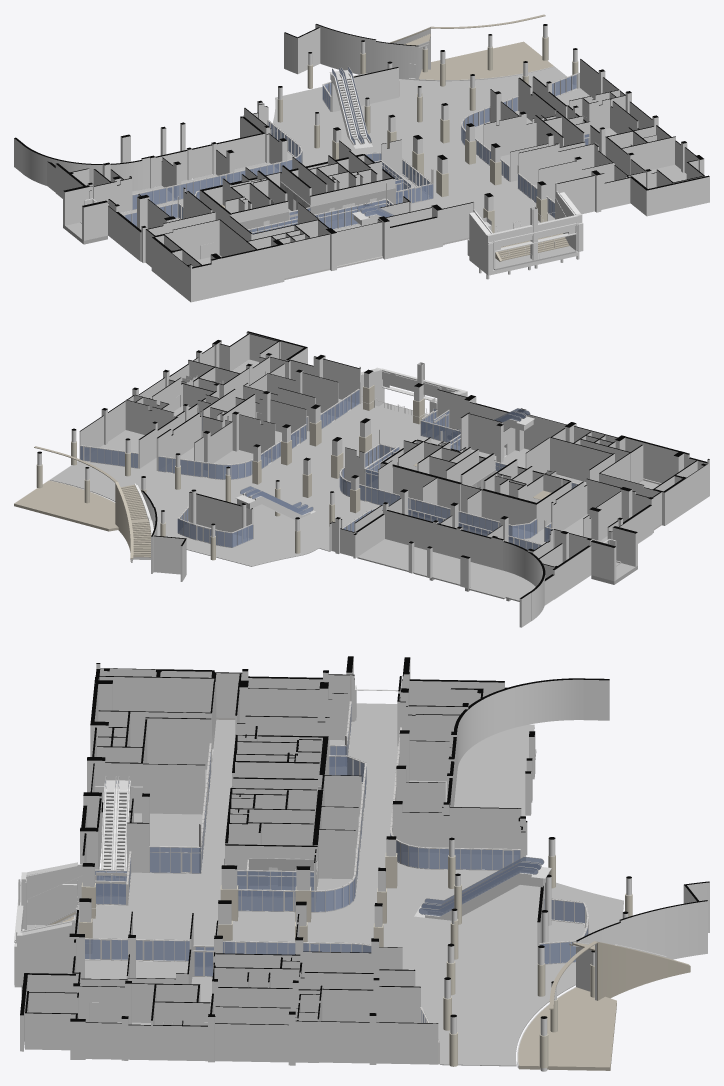
The picture shows the model from 3 angles, top to bottom: view 1: azimuth 30°, elevation 25°; view 2: azimuth 150°, elevation 25°; view 3: azimuth 270°, elevation 25°; orthographic projection. The views are drawn at different scales.
Visible parts, largest first — view 1: 3G$Eex1LvF98anALCPJMAt, B1F_Pillar01, 0vsUNaqET6rhNfNHaxfpYD, 161eeh36z9q96tzdyxwf08, Wall_004, 2O54dMO710SuGAiwHX6j7Z, 2y96tihXL7qBV9uVm_sAIG, 0WF9HnXAL4vQRyo_pqgnpu, 161eeh36z9q96tzdyxwfBS, 161eeh36z9q96tzdyxwf92, 161eeh36z9q96tzdyxwf_Y, 161eeh36z9q96tzdyxwfe2 (+42 smaller); view 2: 3G$Eex1LvF98anALCPJMAt, B1F_Pillar01, 0vsUNaqET6rhNfNHaxfpYD, 161eeh36z9q96tzdyxwgfZ, Wall_004, 0WF9HnXAL4vQRyo_pqgnpu, 161eeh36z9q96tzdyxwf92, 161eeh36z9q96tzdyxwfEn, 161eeh36z9q96tzdyxwfE7, Stairs_002, 161eeh36z9q96tzdyxwfFP, 161eeh36z9q96tzdyxwf7s (+49 smaller); view 3: 3G$Eex1LvF98anALCPJMAt, B1F_Pillar01, 3G$Eex1LvF98anALCPJHf0, 0vsUNaqET6rhNfNHaxfpYD, Wall_004, 161eeh36z9q96tzdyxwf08, 161eeh36z9q96tzdyxwf9C, 3HEPHru$TB3hlyezFZmzLZ, Wall_001, 2HrijRPdL2vvnPyaTUN7jl, 1LhUMR5ZbDX8ErqSCuh0lg, 20IRNjci97sQD81LGyliY9 (+69 smaller).
Part boxes in pixels (x1=…): 3G$Eex1LvF98anALCPJMAt: x1=80, y1=66, x2=575, y2=232; B1F_Pillar01: x1=70, y1=24, x2=687, y2=296; 0vsUNaqET6rhNfNHaxfpYD: x1=419, y1=41, x2=553, y2=79; 161eeh36z9q96tzdyxwf08: x1=315, y1=24, x2=376, y2=74; Wall_004: x1=22, y1=144, x2=142, y2=191; 2O54dMO710SuGAiwHX6j7Z: x1=284, y1=234, x2=329, y2=278; 2y96tihXL7qBV9uVm_sAIG: x1=336, y1=222, x2=382, y2=265; 0WF9HnXAL4vQRyo_pqgnpu: x1=331, y1=67, x2=398, y2=112; 161eeh36z9q96tzdyxwfBS: x1=242, y1=245, x2=278, y2=290; 161eeh36z9q96tzdyxwf92: x1=151, y1=237, x2=189, y2=300; 161eeh36z9q96tzdyxwf_Y: x1=664, y1=175, x2=709, y2=212; 161eeh36z9q96tzdyxwfe2: x1=375, y1=41, x2=418, y2=80; 3G$Eex1LvF98anALCPJMAt: x1=50, y1=402, x2=621, y2=566; B1F_Pillar01: x1=36, y1=350, x2=705, y2=588; 0vsUNaqET6rhNfNHaxfpYD: x1=14, y1=480, x2=118, y2=531; 161eeh36z9q96tzdyxwgfZ: x1=357, y1=539, x2=456, y2=577; Wall_004: x1=503, y1=541, x2=545, y2=620; 0WF9HnXAL4vQRyo_pqgnpu: x1=189, y1=491, x2=253, y2=537; 161eeh36z9q96tzdyxwf92: x1=662, y1=463, x2=708, y2=525; 161eeh36z9q96tzdyxwfEn: x1=481, y1=489, x2=538, y2=532; 161eeh36z9q96tzdyxwfE7: x1=386, y1=510, x2=432, y2=551; Stairs_002: x1=121, y1=484, x2=151, y2=557; 161eeh36z9q96tzdyxwfFP: x1=382, y1=462, x2=445, y2=506; 161eeh36z9q96tzdyxwf7s: x1=153, y1=535, x2=186, y2=574; 3G$Eex1LvF98anALCPJMAt: x1=77, y1=712, x2=623, y2=1066; B1F_Pillar01: x1=69, y1=668, x2=632, y2=1071; 3G$Eex1LvF98anALCPJHf0: x1=128, y1=719, x2=345, y2=906; 0vsUNaqET6rhNfNHaxfpYD: x1=518, y1=987, x2=616, y2=1070; Wall_004: x1=454, y1=678, x2=583, y2=767; 161eeh36z9q96tzdyxwf08: x1=619, y1=900, x2=707, y2=959; 161eeh36z9q96tzdyxwf9C: x1=99, y1=676, x2=214, y2=712; 3HEPHru$TB3hlyezFZmzLZ: x1=449, y1=807, x2=521, y2=854; Wall_001: x1=597, y1=943, x2=690, y2=1000; 2HrijRPdL2vvnPyaTUN7jl: x1=145, y1=717, x2=211, y2=769; 1LhUMR5ZbDX8ErqSCuh0lg: x1=143, y1=763, x2=205, y2=814; 20IRNjci97sQD81LGyliY9: x1=215, y1=1023, x2=288, y2=1062.
Bounding box in the file's own units: 89.88 × 11.23 × 72.37.
